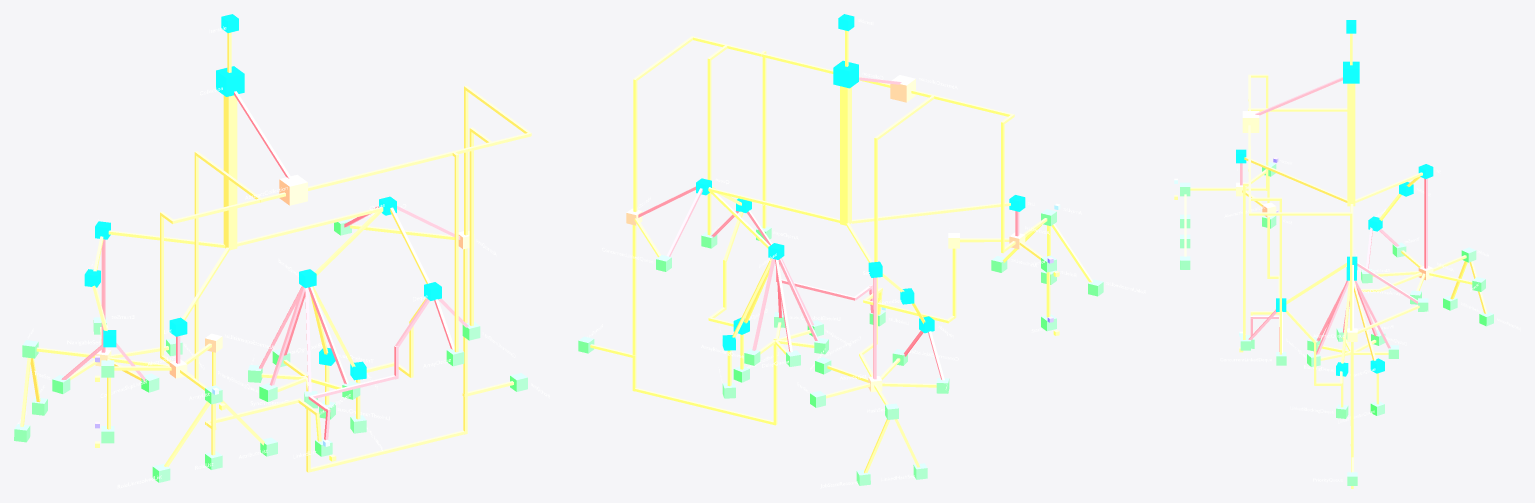
Rendered from CollectionHierarchyBig.glb.
3 renders of one model, left to right at view 1: azimuth 30°, elevation 25°; view 2: azimuth 150°, elevation 25°; view 3: azimuth 270°, elevation 25°, orthographic. The views are drawn at different scales.
Parts seen in each view (by area): view 1: Cube.048, SortedSet-Cube.003, Cube.171, Cube.181, Cube.185, Cube.187, Cube.161, Cube.145, Cube.162, Collection-Cube, Collection-Cube.001, Cube.169 (+2 smaller); view 2: Cube.048, SortedSet-Cube.003, Cube.145, Cube.185, Cube.187, Cube.161, Cube.171, Cube.170, Cube.173, Cube.162, Cube.181; view 3: Cube.048, SortedSet-Cube.003, Cube.145, Cube.185, Cube.187, Cube.170, Cube.172, Collection-Cube, Collection-Cube.001.
Part boxes in pixels (x1=…): Cube.048: x1=223, y1=95, x2=237, y2=250; SortedSet-Cube.003: x1=22, y1=317, x2=182, y2=393; Cube.171: x1=308, y1=132, x2=530, y2=190; Cube.181: x1=194, y1=151, x2=198, y2=379; Cube.185: x1=454, y1=155, x2=458, y2=352; Cube.187: x1=469, y1=128, x2=473, y2=325; Cube.161: x1=463, y1=248, x2=467, y2=434; Cube.145: x1=36, y1=327, x2=168, y2=380; Cube.162: x1=308, y1=430, x2=466, y2=472; Collection-Cube: x1=216, y1=66, x2=244, y2=96; Collection-Cube.001: x1=279, y1=174, x2=307, y2=205; Cube.169: x1=237, y1=207, x2=381, y2=246; Cube.048: x1=840, y1=86, x2=851, y2=225; SortedSet-Cube.003: x1=810, y1=349, x2=949, y2=419; Cube.145: x1=826, y1=358, x2=936, y2=404; Cube.185: x1=762, y1=51, x2=766, y2=228; Cube.187: x1=707, y1=58, x2=711, y2=235; Cube.161: x1=632, y1=225, x2=636, y2=391; Cube.171: x1=692, y1=36, x2=890, y2=87; Cube.170: x1=852, y1=202, x2=1010, y2=223; Cube.173: x1=633, y1=79, x2=637, y2=211; Cube.162: x1=635, y1=388, x2=775, y2=425; Cube.181: x1=874, y1=137, x2=877, y2=343; Cube.048: x1=1347, y1=83, x2=1355, y2=206; SortedSet-Cube.003: x1=1361, y1=242, x2=1485, y2=304; Cube.145: x1=1372, y1=250, x2=1472, y2=290; Cube.185: x1=1243, y1=183, x2=1245, y2=339; Cube.187: x1=1279, y1=201, x2=1281, y2=354; Cube.170: x1=1244, y1=157, x2=1347, y2=202; Cube.172: x1=1249, y1=212, x2=1352, y2=215; Collection-Cube: x1=1343, y1=61, x2=1359, y2=83; Collection-Cube.001: x1=1242, y1=111, x2=1259, y2=132.
Size of the model in its own units: 331 by 289 by 242.
